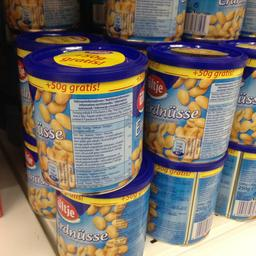nuts: (22, 42, 148, 196), (144, 39, 247, 159), (52, 180, 154, 254), (146, 154, 228, 244)
